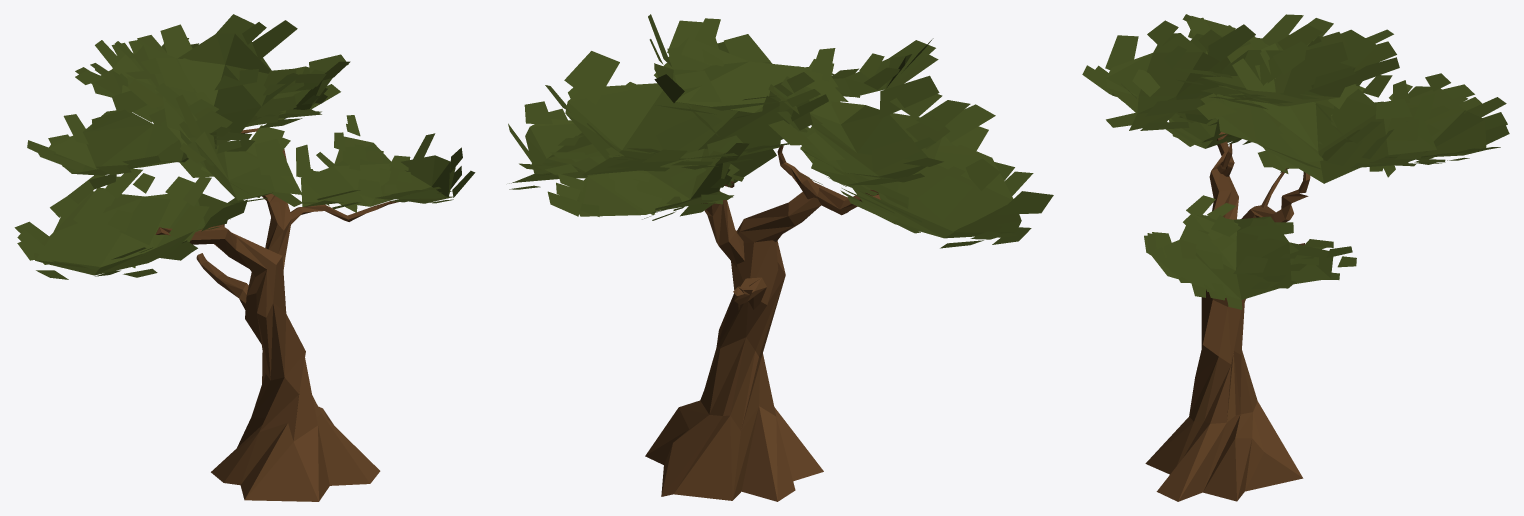
Rendered from tree-juniper-mature-a.gltf.
3 views of the same model, side by side, from view 1: azimuth 30°, elevation 25°; view 2: azimuth 150°, elevation 25°; view 3: azimuth 270°, elevation 25° (orthographic). The views are drawn at different scales.
Visible parts, largest first — view 1: tree-juniper-mature-a; view 2: tree-juniper-mature-a; view 3: tree-juniper-mature-a.
Boxes of the visible parts, bbox=[...] form: tree-juniper-mature-a: bbox=[14, 14, 475, 501]; tree-juniper-mature-a: bbox=[508, 14, 1053, 501]; tree-juniper-mature-a: bbox=[1082, 14, 1509, 501].
Bounding box in the file's own units: 0.0422 × 0.0381 × 0.0354.
